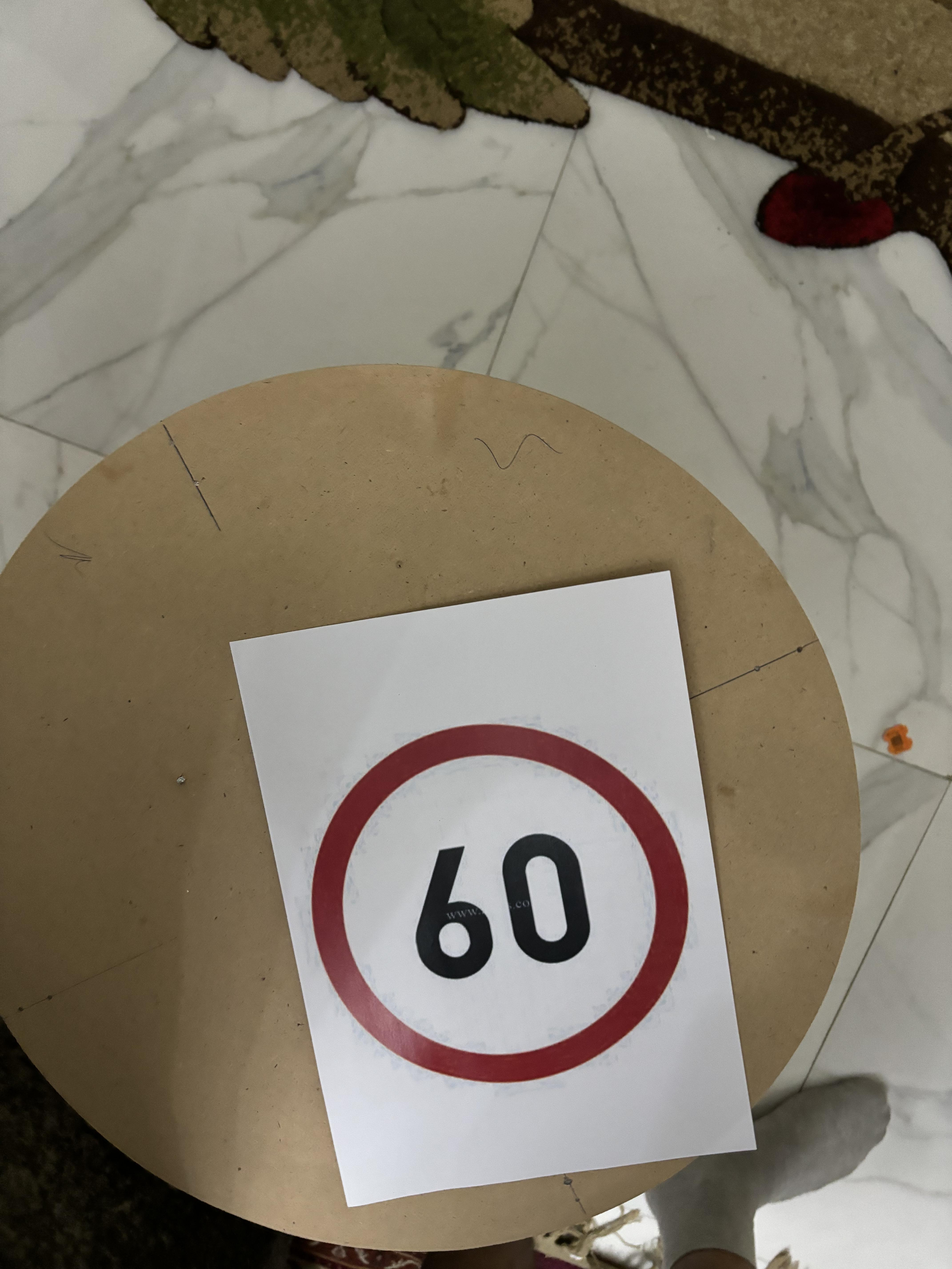60-Speed: (296, 707, 710, 1107)
